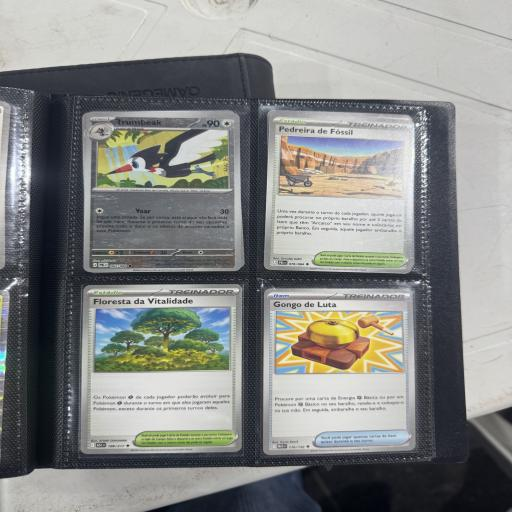card: (79, 284, 244, 455), (82, 111, 242, 273), (264, 288, 417, 455), (263, 113, 416, 274)
